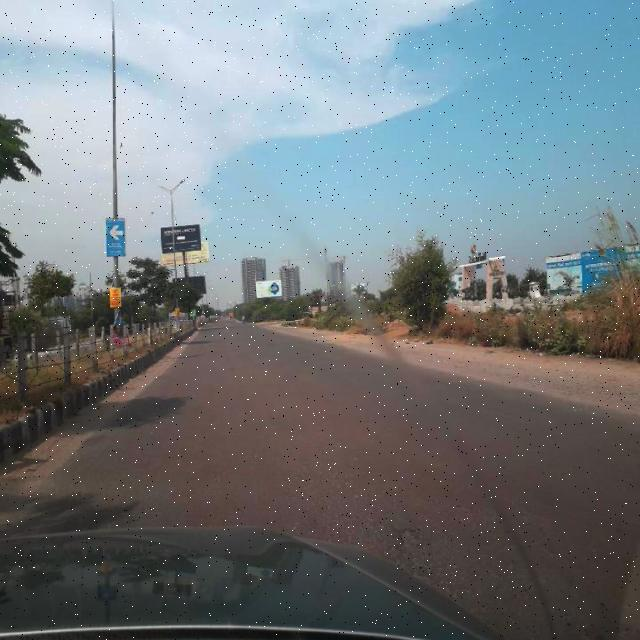D20: (332, 460, 497, 588)
D40: (394, 519, 422, 555)
